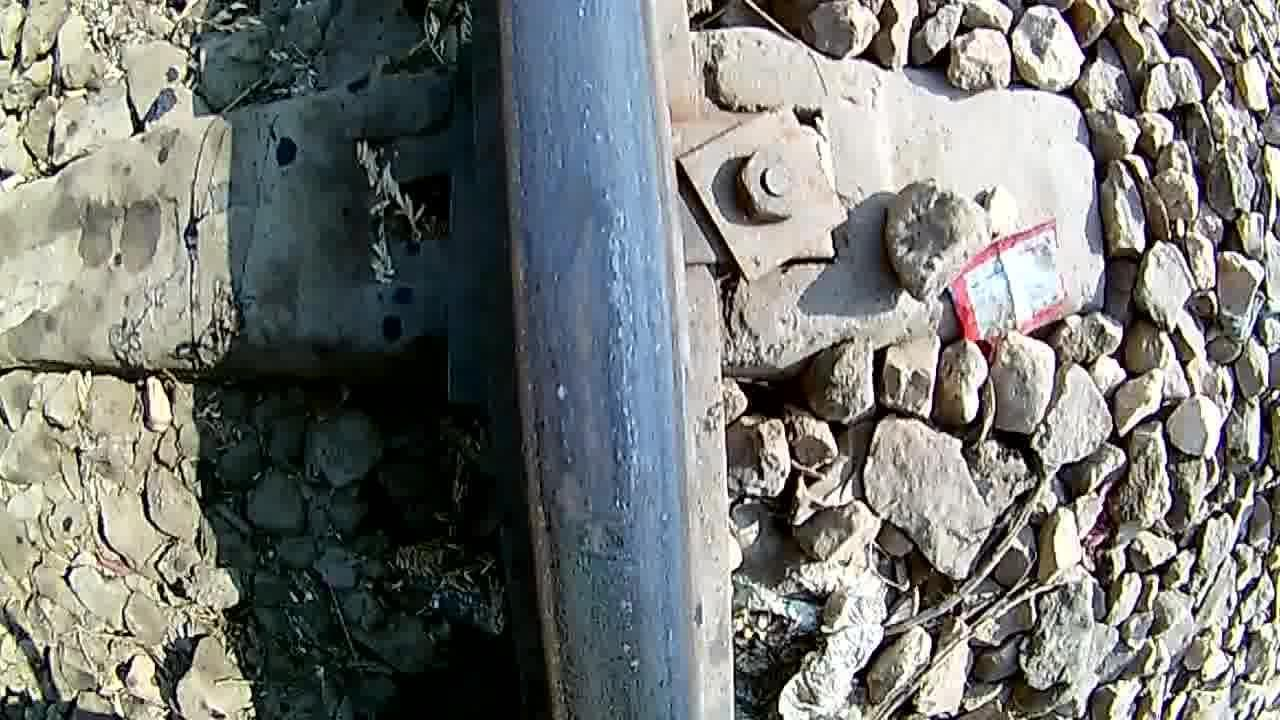crack: (512, 99, 684, 698)
